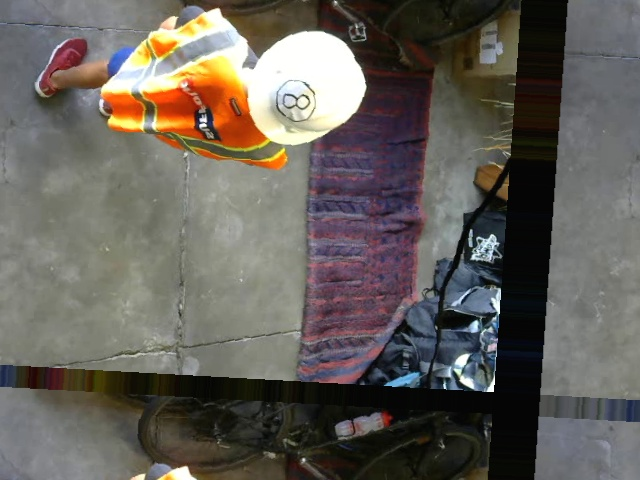eight: (273, 77, 318, 122)
